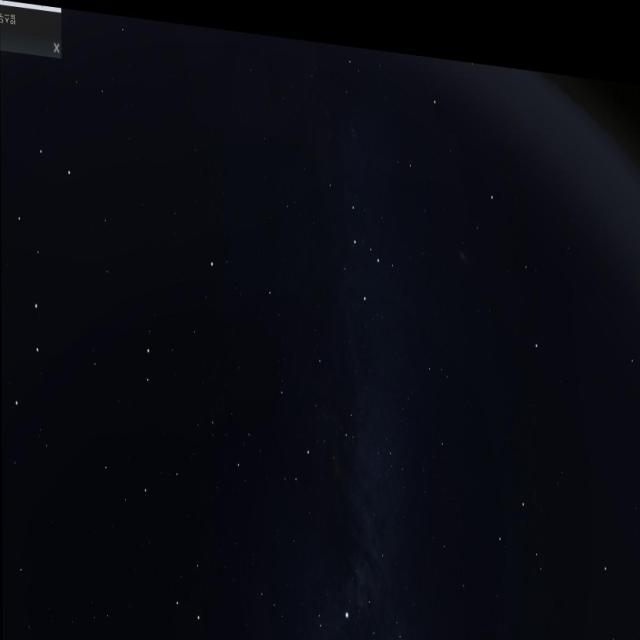cassiopeia: (320, 152, 403, 314)
cygnus: (301, 549, 414, 640)
ursa_major: (0, 130, 77, 426)
